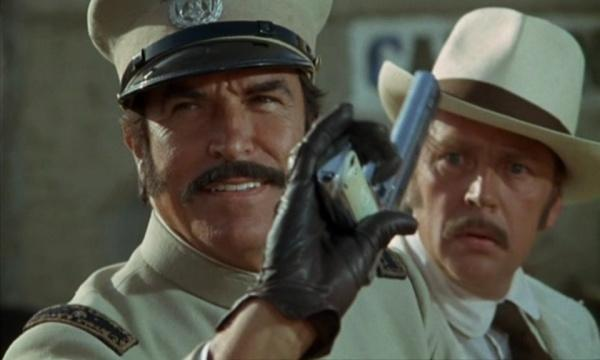Gun: (334, 68, 443, 280)
